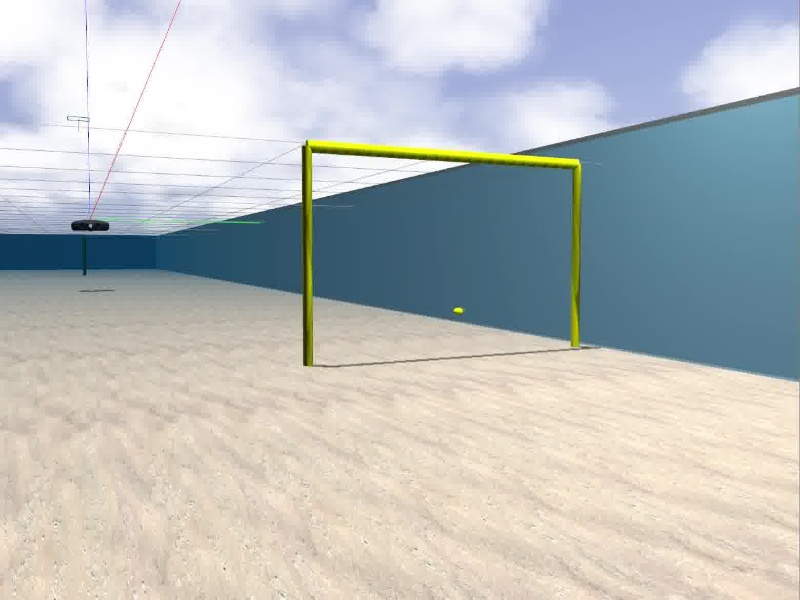gate: (301, 137, 583, 367)
